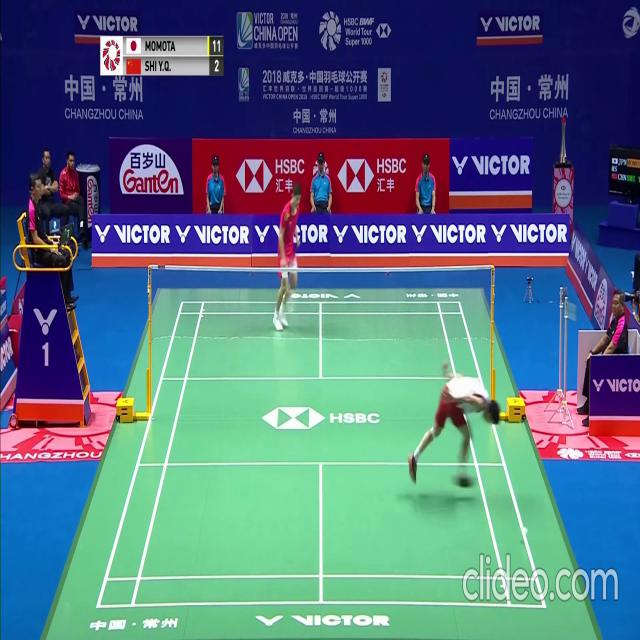Shuttlecock: (524, 527, 528, 535)
